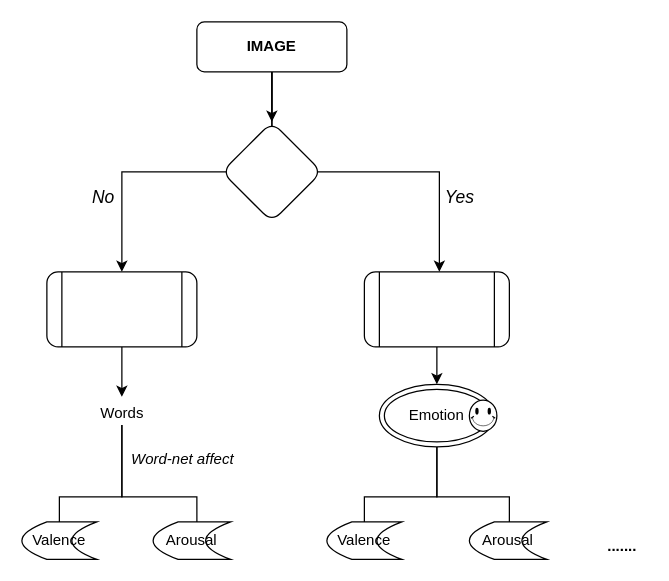
Image size: 669x581. Some labels were removed from this diagram. The shapes that lost their labels are listed below. From the top down, each one's centre as x and y in pixels, then its label:
the point at 271,171: Is there a face ?
the point at 121,309: Image Object Recognition
the point at 436,309: Face Emotion Recognition
